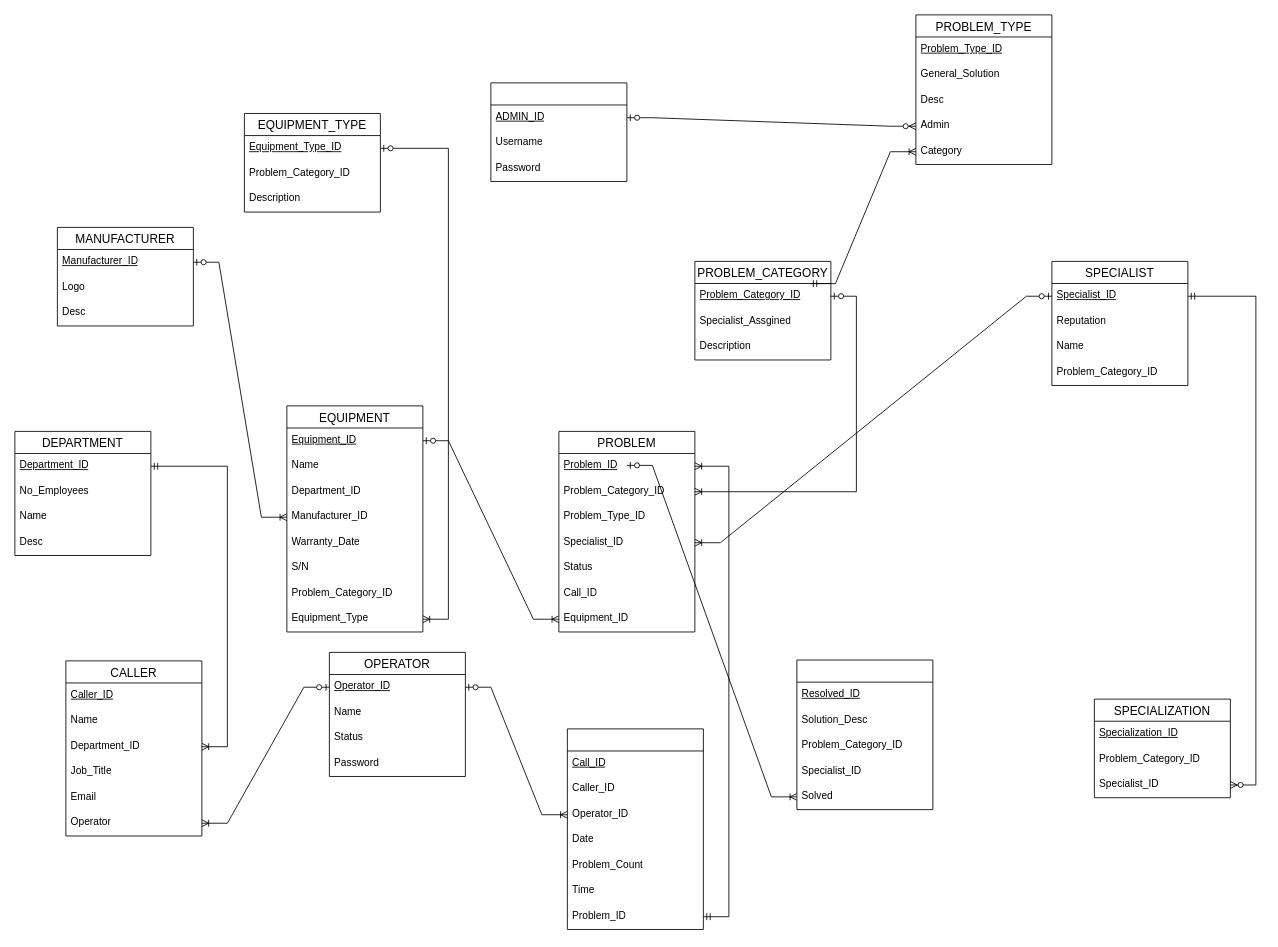
This 1278x947 diagram has some shape labels left out. The shapes that lost their labels are listed below. From the top down, each one's box as (x1, y1, x2, y2) in pixels, then its label:
(490, 82, 627, 181): ADMINISTRATOR
(796, 659, 933, 810): rESOLVED_PROBLEM
(567, 728, 703, 929): CALL_LOG
